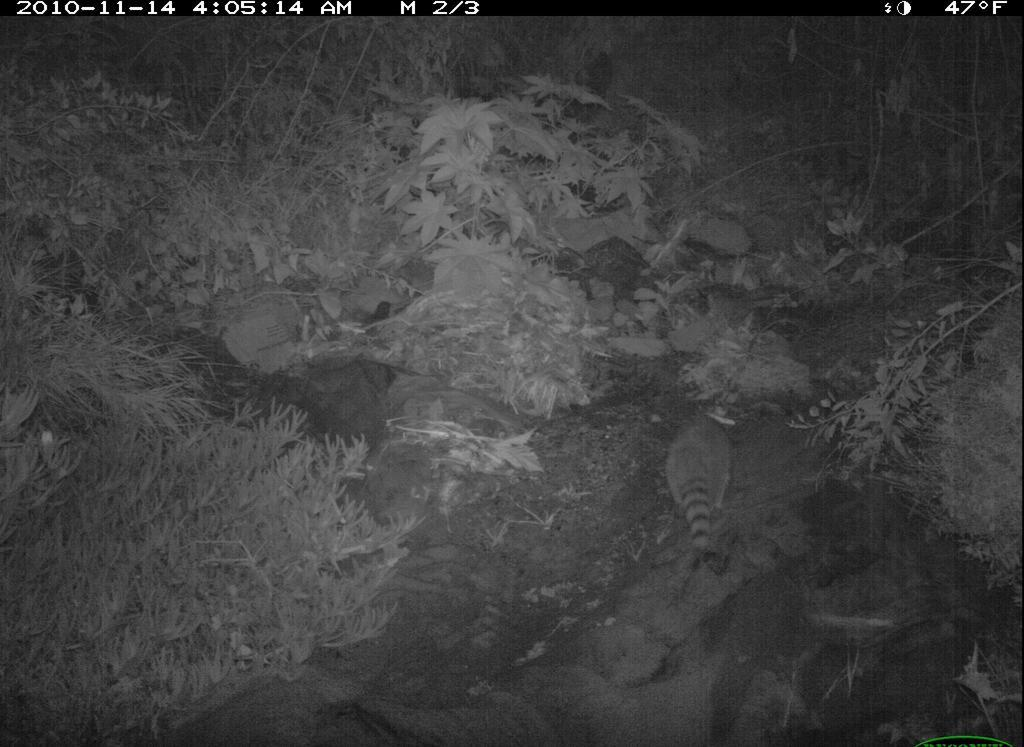raccoon: (662, 393, 762, 579)
